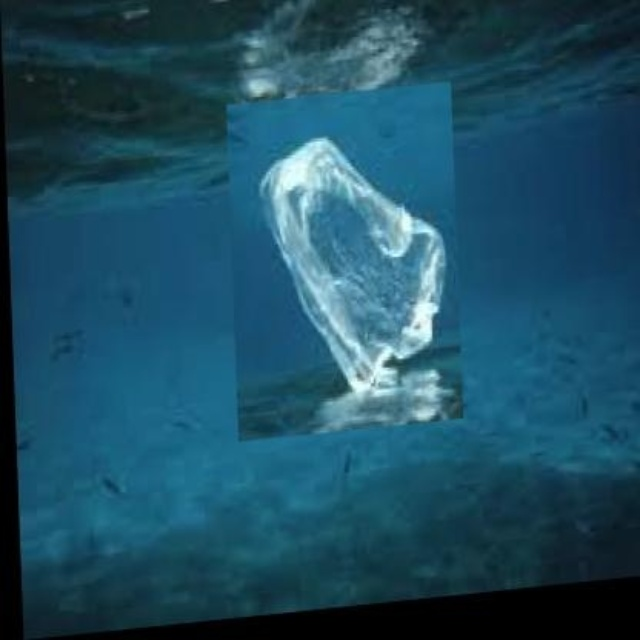trash: (260, 137, 443, 391)
